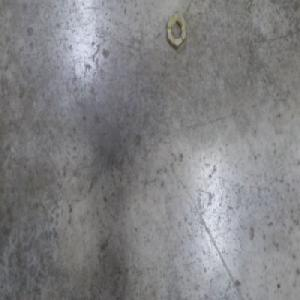Nut: (166, 9, 187, 49)
